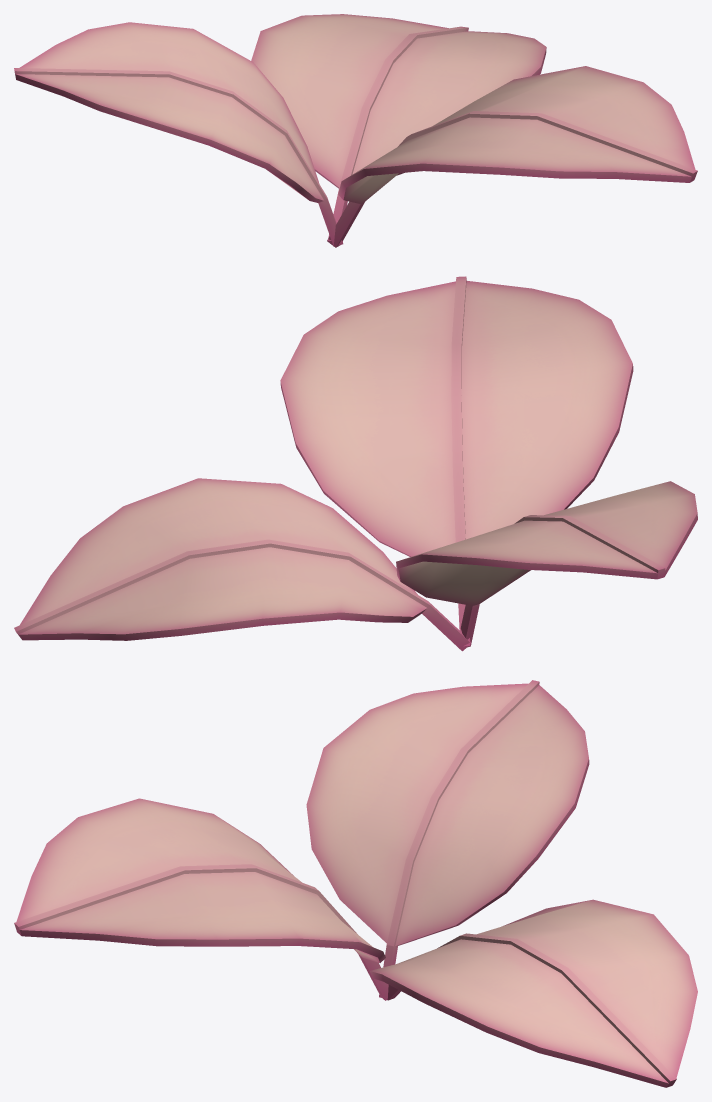
File: plant3_pink.fbx
The picture shows the model from 3 angles, top to bottom: view 1: azimuth 30°, elevation 25°; view 2: azimuth 150°, elevation 25°; view 3: azimuth 270°, elevation 25°; orthographic projection. The views are drawn at different scales.
Parts seen in each view (by area): view 1: pPlane295, pPlane294, pPlane296; view 2: pPlane294, pPlane295, pPlane296; view 3: pPlane296, pPlane295, pPlane294.
Boxes of the visible parts, x1,y1,x2,y2 form: pPlane295: (251,14,546,240); pPlane294: (327,66,697,247); pPlane296: (14,22,343,246); pPlane294: (280,276,633,646); pPlane295: (14,478,471,651); pPlane296: (396,481,697,647); pPlane296: (306,680,589,998); pPlane295: (370,899,697,1087); pPlane294: (14,798,388,1000).
Size of the model in its own units: 1.54 by 0.5234 by 1.68.
